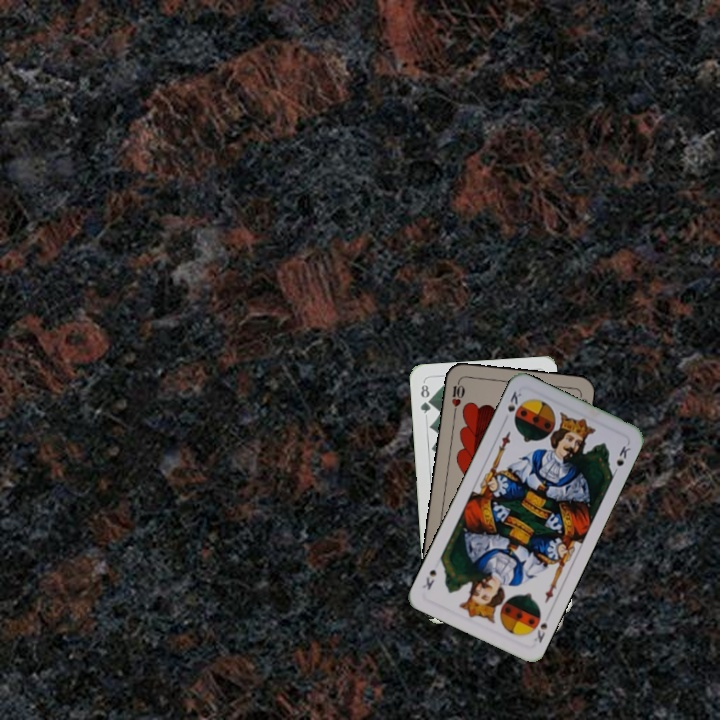G8: (416, 380, 434, 416)
H10: (448, 375, 467, 416)
SK: (503, 387, 524, 414), (530, 619, 550, 646)
